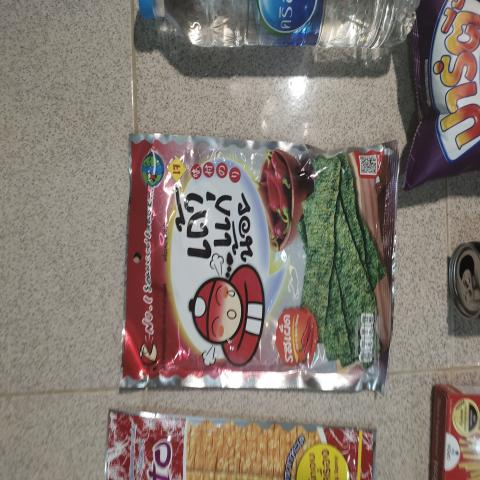taokaenoi: (139, 131, 394, 383)
